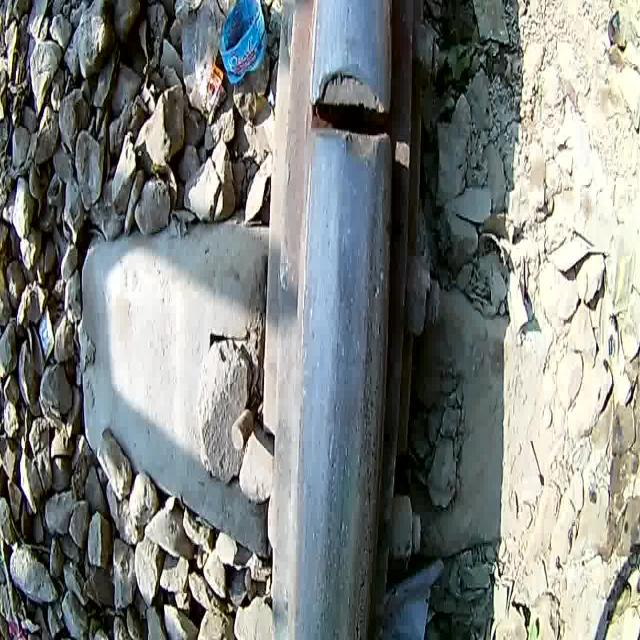Joint: (298, 52, 404, 176)
